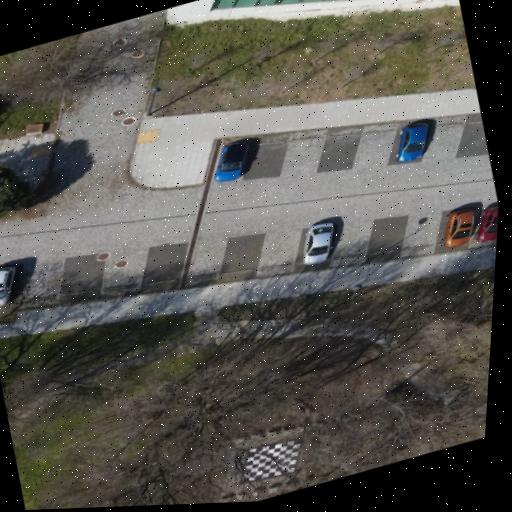car: (214, 141, 248, 181), (302, 222, 333, 264), (395, 122, 428, 161), (442, 208, 474, 247), (476, 205, 498, 241), (0, 267, 14, 305)
